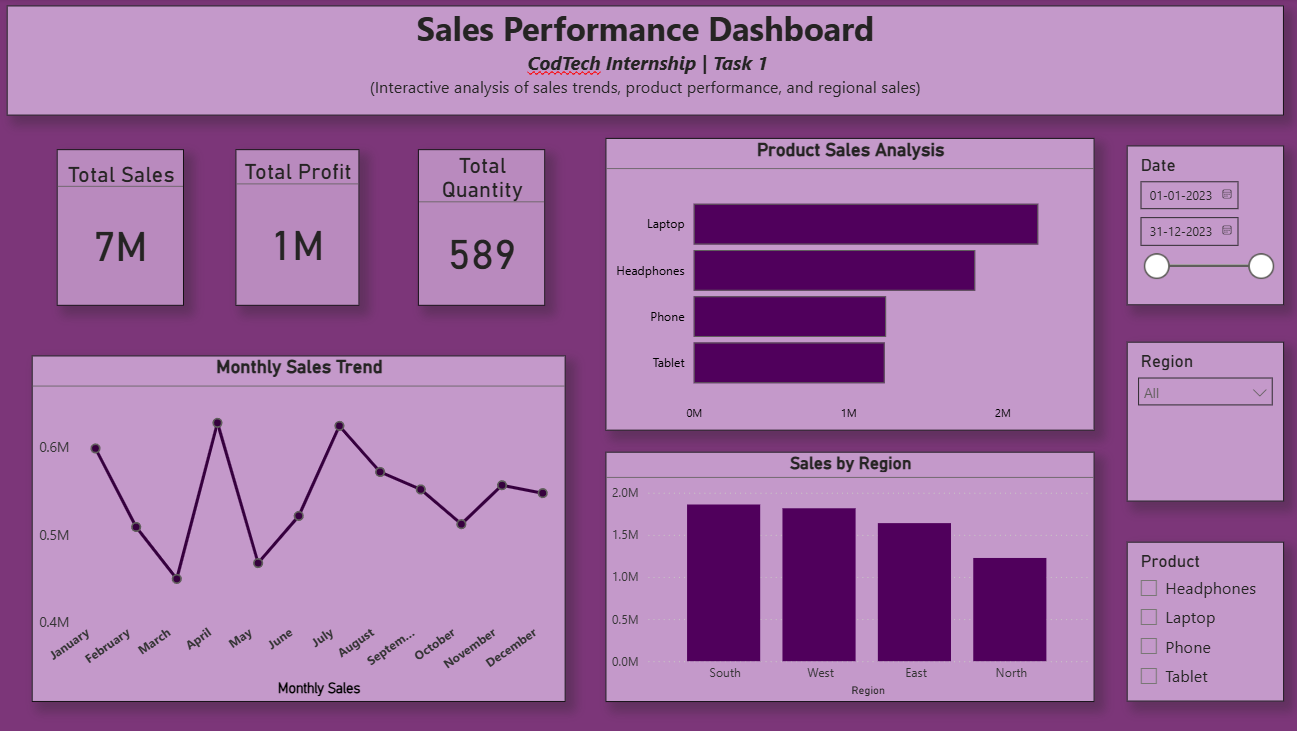

The page's visual inventory and layout, read from the dashboard file:
{"tool":"powerbi","page":{"name":"task-1","canvas":[1280,720],"ordinal":0},"visuals":[{"type":"card","title":"Total Sales","fields":{"Values":["Sum(sales_data.Sales)"]},"box":[57.7,148.5,125.2,153.4],"z":0},{"type":"card","title":"Total Profit","fields":{"Values":["Sum(sales_data.Profit)"]},"box":[233.1,148.5,121.5,153.4],"z":1000},{"type":"card","title":"Total Quantity","fields":{"Values":["Sum(sales_data.Quantity)"]},"box":[412.3,148.5,125.2,153.4],"z":2000},{"type":"lineChart","title":"Monthly Sales Trend","fields":{"Y":["Sum(sales_data.Sales)"],"Category":["sales_data.Order Date.Variation.Date Hierarchy.Month"]},"box":[33.1,350.9,523.9,339.9],"z":3000},{"type":"clusteredBarChart","title":"Product Sales Analysis","fields":{"Category":["sales_data.Product"],"Y":["Sum(sales_data.Sales)"]},"box":[596.3,137.4,479.8,287.1],"z":3001},{"type":"clusteredColumnChart","title":"Sales by Region","fields":{"Category":["sales_data.Region"],"Y":["Sum(sales_data.Sales)"]},"box":[596.3,445.4,479.8,245.4],"z":3002},{"type":"textbox","box":[8.6,7.4,1254,108],"z":3003},{"type":"slicer","fields":{"Values":["sales_data.Order Date"]},"box":[1108,144.8,154.6,157.1],"z":3004},{"type":"slicer","fields":{"Values":["sales_data.Region"]},"box":[1108,337.4,154.6,157.1],"z":3005},{"type":"slicer","fields":{"Values":["sales_data.Product"]},"box":[1108,533.7,154.6,157.1],"z":3006}]}

Visuals, with their boxes in screenshot pixels (x1, y1, x2, y2), scaled from the page's 1280x720 canvas onto the 1297x731 screenshot:
"Total Sales" card: bbox(58, 151, 185, 307)
"Total Profit" card: bbox(236, 151, 359, 307)
"Total Quantity" card: bbox(418, 151, 545, 307)
"Monthly Sales Trend" lineChart: bbox(34, 356, 564, 701)
"Product Sales Analysis" clusteredBarChart: bbox(604, 139, 1090, 431)
"Sales by Region" clusteredColumnChart: bbox(604, 452, 1090, 701)
textbox: bbox(9, 8, 1279, 117)
slicer - sales_data.Order Date: bbox(1123, 147, 1279, 307)
slicer - sales_data.Region: bbox(1123, 343, 1279, 502)
slicer - sales_data.Product: bbox(1123, 542, 1279, 701)
